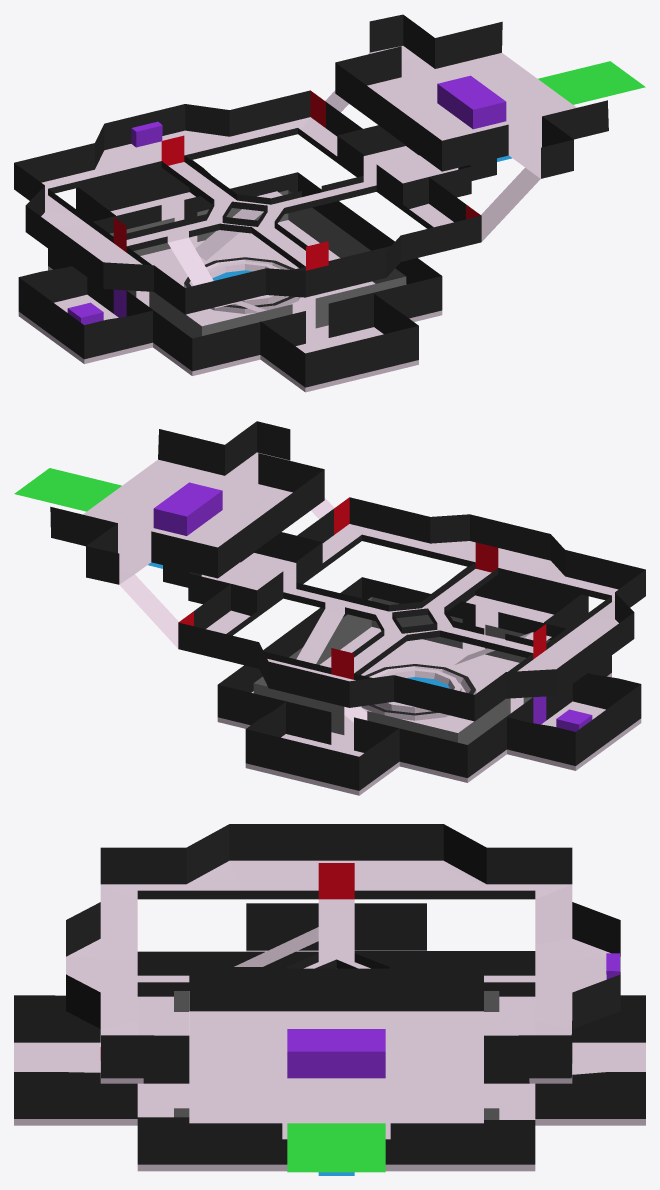
File: level1NEU.fbx
The picture shows the model from 3 angles, top to bottom: view 1: azimuth 30°, elevation 25°; view 2: azimuth 150°, elevation 25°; view 3: azimuth 270°, elevation 25°; orthographic projection. The views are drawn at different scales.
Visible parts, largest first — view 1: Cube; view 2: Cube; view 3: Cube.
Part boxes in pixels (x1,y1,x2,y2): Cube: (14,14,645,392); Cube: (14,421,645,795); Cube: (14,824,645,1175).
Size of the model in its own units: 9395 by 2453 by 6472.
